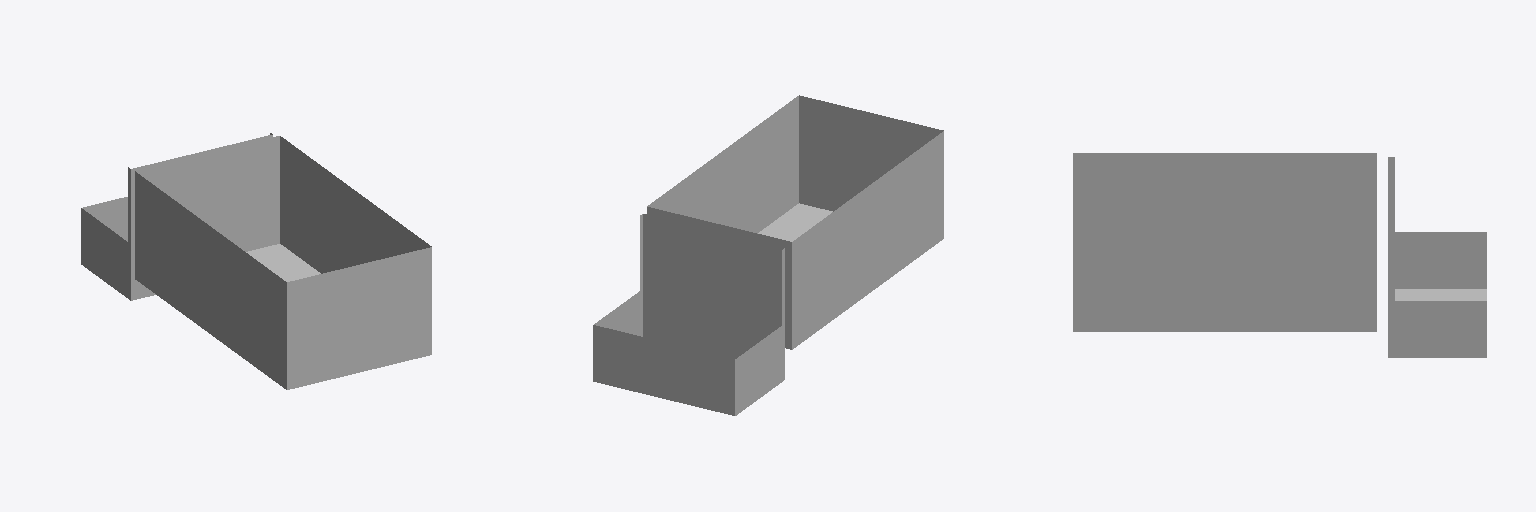
File: ambulance0_interior.obj
The picture shows the model from 3 angles: view 1: azimuth 30°, elevation 25°; view 2: azimuth 150°, elevation 25°; view 3: azimuth 270°, elevation 25°; orthographic projection.
Visible parts, largest first — view 1: Interior_Rear, Interior_Front; view 2: Interior_Rear, Interior_Front; view 3: Interior_Rear, Interior_Front.
Part boxes in pixels (x1,y1,x2,y2): Interior_Rear: (135, 136, 431, 389); Interior_Front: (81, 133, 272, 300); Interior_Rear: (647, 95, 943, 349); Interior_Front: (593, 214, 784, 415); Interior_Rear: (1073, 153, 1376, 331); Interior_Front: (1388, 157, 1486, 357).
Bounding box in the file's own units: 0.7636 × 0.6751 × 1.89.